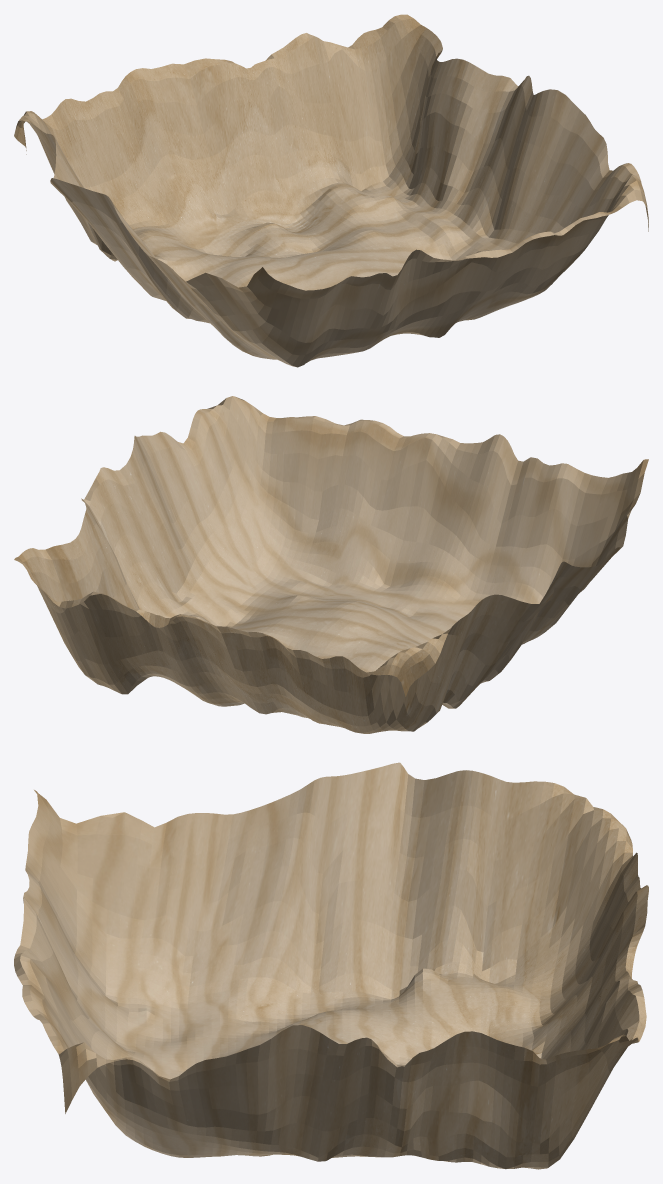
The model's file is terenFinal.gltf.
3 renders of one model, top to bottom at view 1: azimuth 30°, elevation 25°; view 2: azimuth 150°, elevation 25°; view 3: azimuth 270°, elevation 25°, orthographic. The views are drawn at different scales.
Visible parts, largest first — view 1: Plane; view 2: Plane; view 3: Plane.
Part boxes in pixels (x1,y1,x2,y2): Plane: (14,14,648,367); Plane: (14,396,648,733); Plane: (14,762,648,1169).
Size of the model in its own units: 152 by 49.12 by 146.
1 material, 1 textured.
